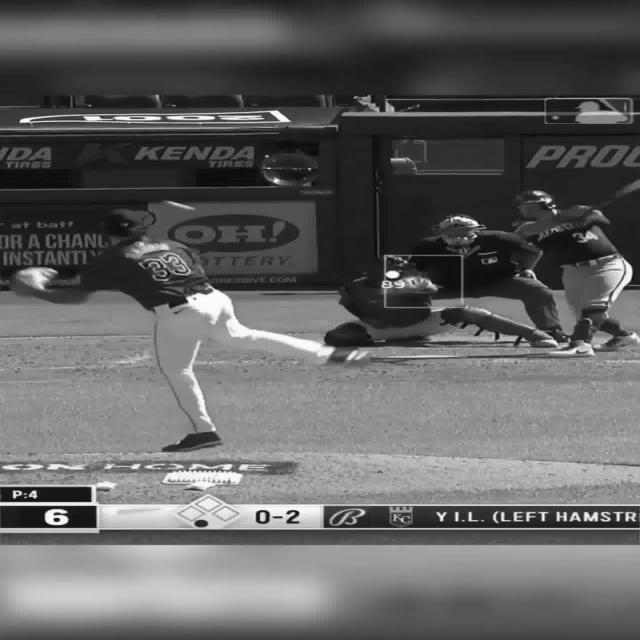baseball: (170, 200, 195, 212)
shoe: (160, 431, 222, 452), (592, 331, 638, 351), (323, 346, 370, 364), (546, 341, 596, 357), (527, 329, 557, 347), (542, 328, 570, 342)
